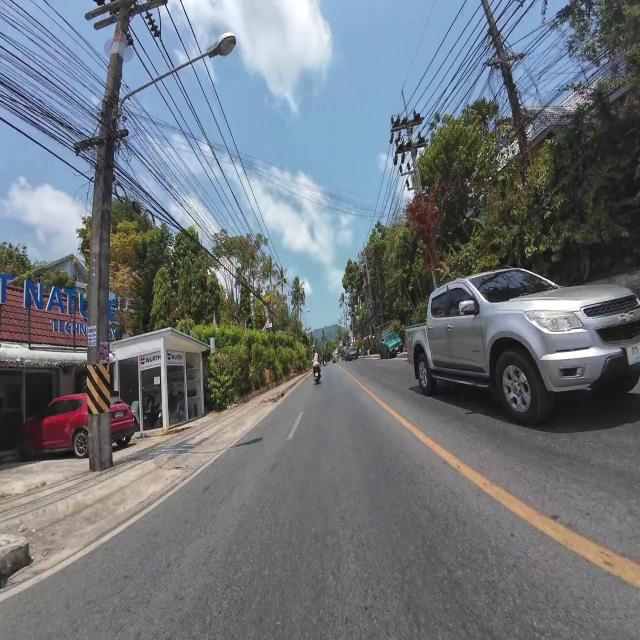car: (406, 268, 639, 423), (111, 398, 137, 446), (345, 347, 358, 360)
motorcycle: (313, 364, 321, 384)
